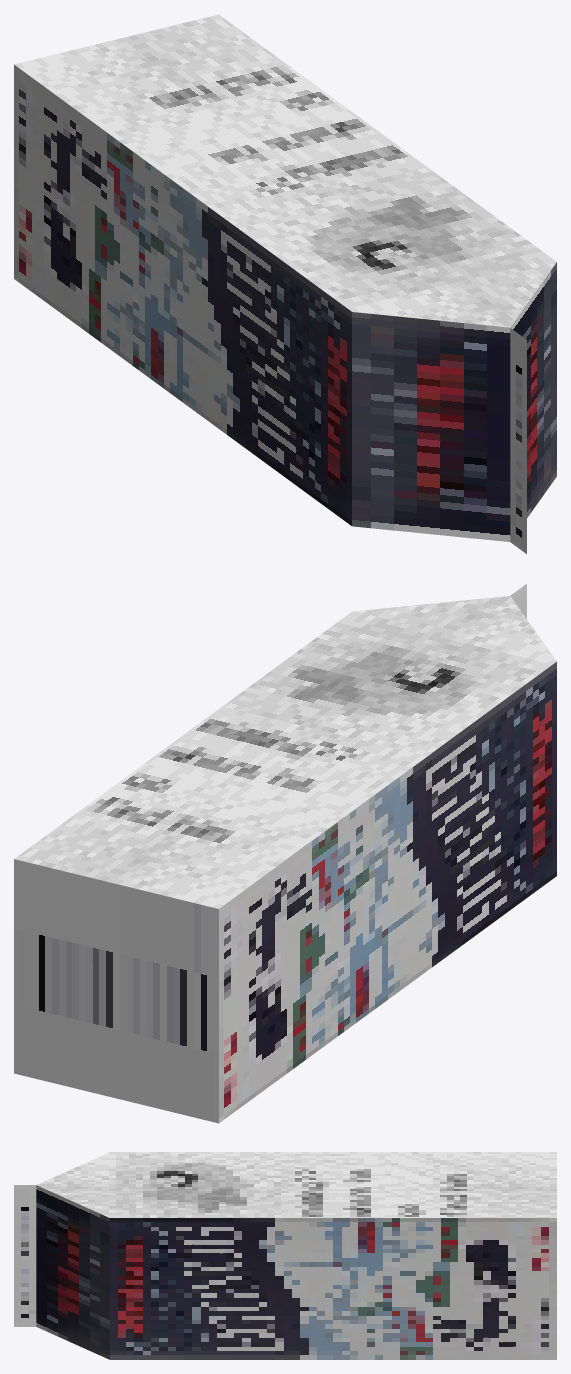
The model's file is eggnog.glb.
The picture shows the model from 3 angles, top to bottom: view 1: azimuth 30°, elevation 25°; view 2: azimuth 150°, elevation 25°; view 3: azimuth 270°, elevation 25°; orthographic projection. The views are drawn at different scales.
Parts seen in each view (by area): view 1: Plane; view 2: Plane; view 3: Plane.
Boxes of the visible parts, box(x1,y1,x2,y2) form: Plane: box(14, 14, 556, 553); Plane: box(14, 584, 556, 1123); Plane: box(14, 1152, 556, 1359).
Size of the model in its own units: 0.07 by 0.07 by 0.2429.
3 materials, 3 textured.
